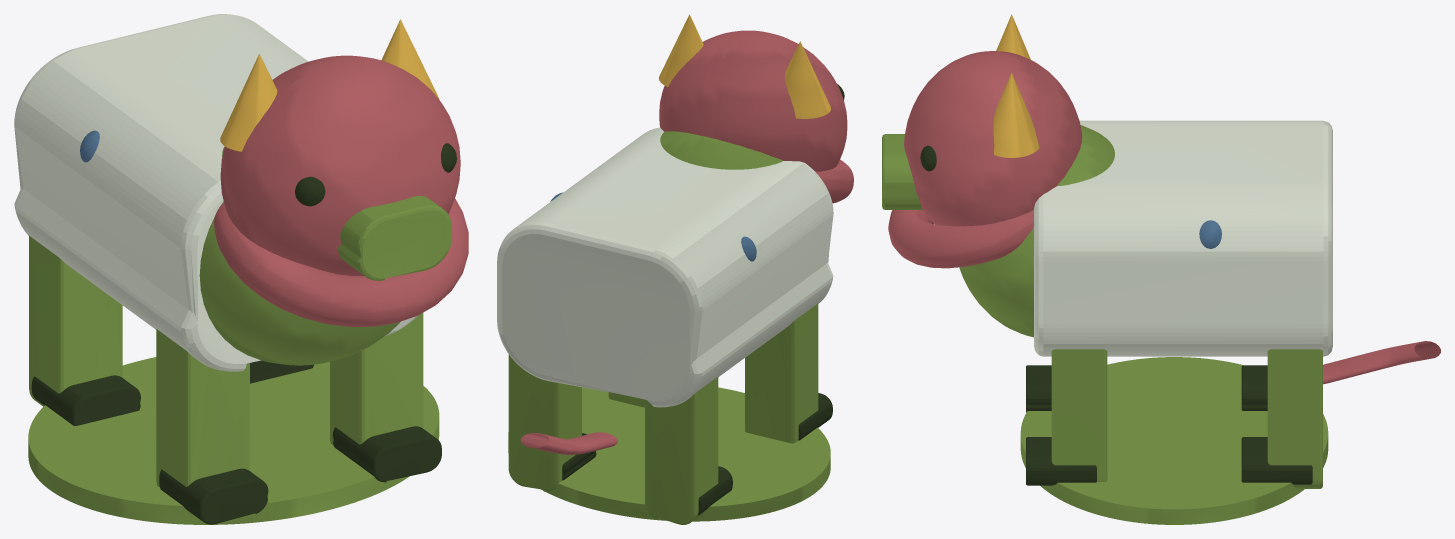
Rendered from 0857_有毒生物图鉴_乳草.glb.
3 renders of one model, left to right at view 1: azimuth 30°, elevation 25°; view 2: azimuth 150°, elevation 25°; view 3: azimuth 270°, elevation 25°, orthographic. The views are drawn at different scales.
Visible parts, largest first — view 1: card_0857; view 2: card_0857; view 3: card_0857.
Part boxes in pixels (bbox=[...]): card_0857: bbox=[14, 14, 468, 524]; card_0857: bbox=[497, 14, 853, 524]; card_0857: bbox=[882, 14, 1440, 524].
Bounding box in the file's own units: 0.8057 × 1 × 1.25.
